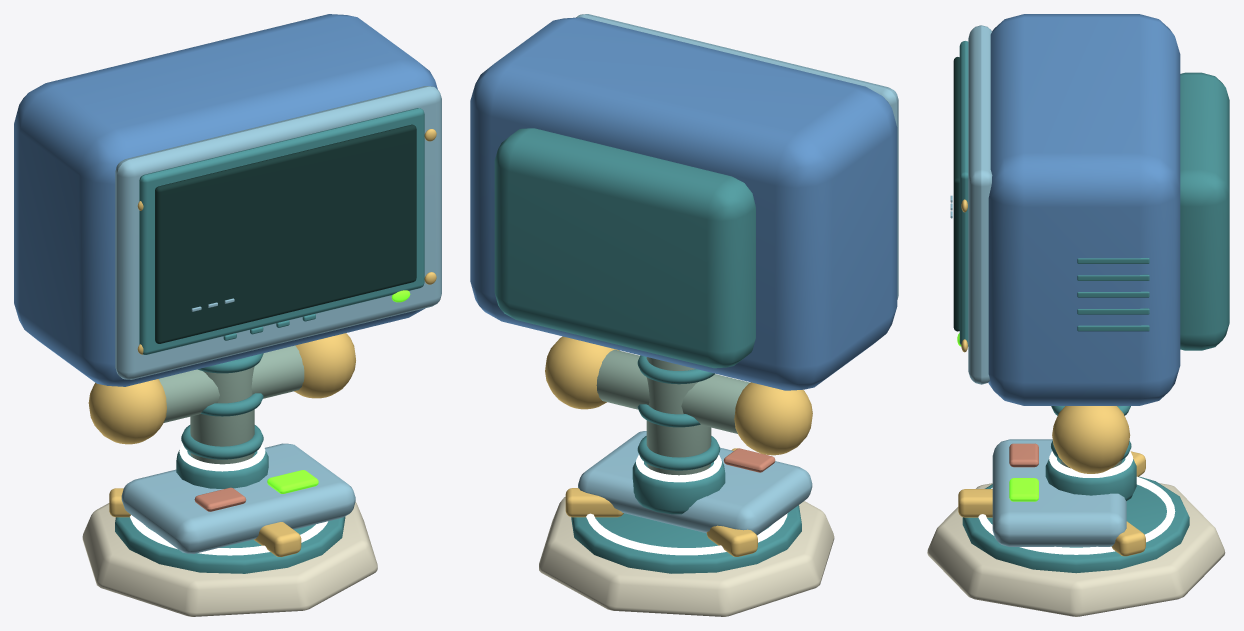
The model's file is grabber_computer.glb.
The picture shows the model from 3 angles, left to right: view 1: azimuth 30°, elevation 25°; view 2: azimuth 150°, elevation 25°; view 3: azimuth 270°, elevation 25°; orthographic projection. The views are drawn at different scales.
Visible parts, largest first — view 1: Monitor / material batches, Pedestal / material batches; view 2: Monitor / material batches, Pedestal / material batches; view 3: Monitor / material batches, Pedestal / material batches.
Part boxes in pixels (bbox=[...]): Monitor / material batches: bbox=[14, 14, 441, 386]; Pedestal / material batches: bbox=[82, 333, 377, 616]; Monitor / material batches: bbox=[470, 14, 898, 390]; Pedestal / material batches: bbox=[539, 336, 834, 616]; Monitor / material batches: bbox=[950, 14, 1229, 405]; Pedestal / material batches: bbox=[927, 406, 1225, 616].
Size of the model in its own units: 2.16 by 2.79 by 1.63.
